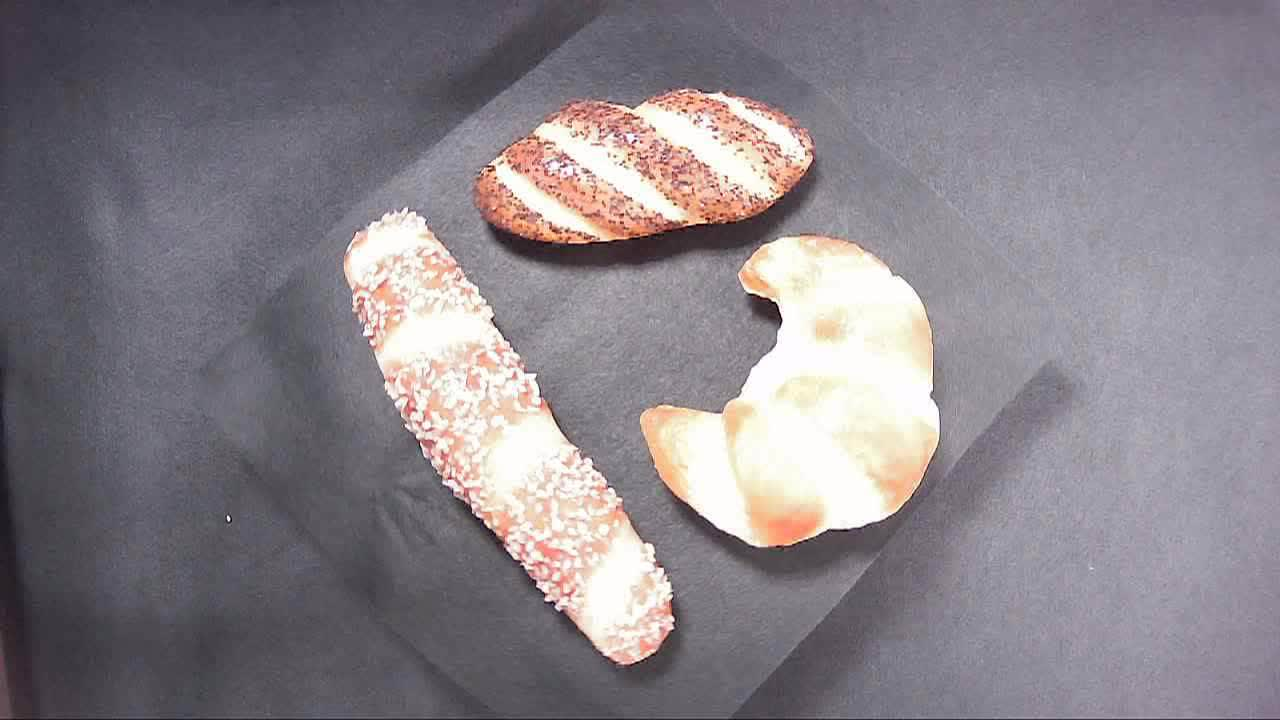cow: (717, 232, 944, 557), (635, 381, 1041, 514)
long: (406, 331, 633, 670), (328, 203, 469, 532), (492, 518, 695, 675)
slash: (464, 90, 862, 232), (472, 85, 741, 250)
